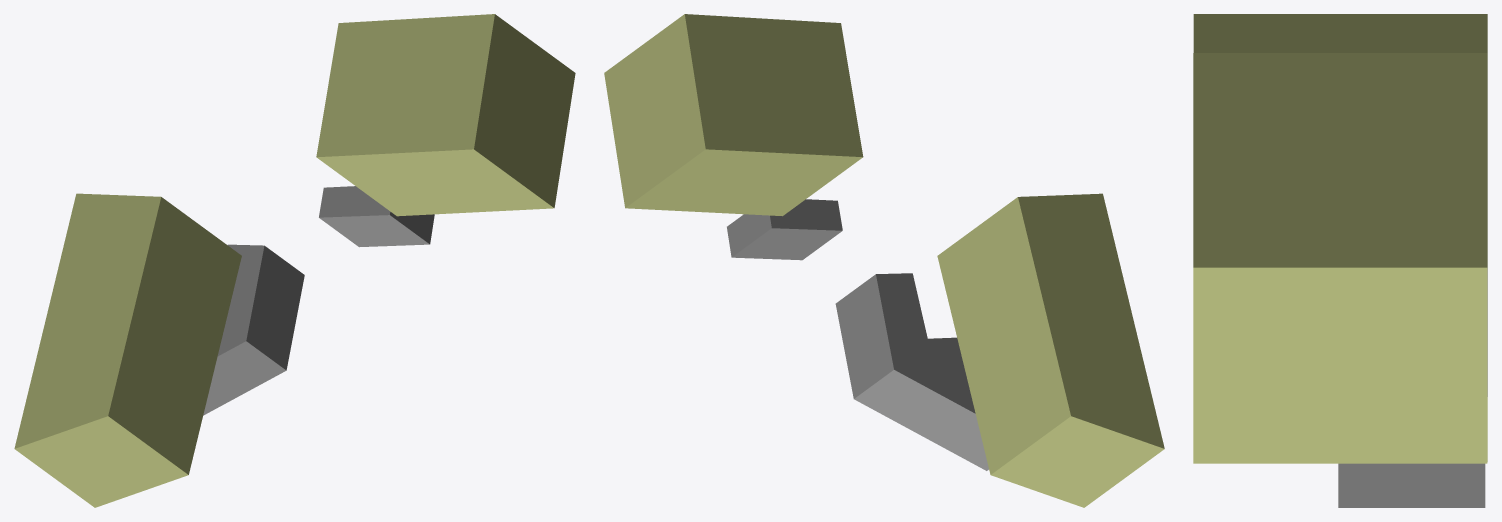
3 renders of one model, left to right at view 1: azimuth 30°, elevation 25°; view 2: azimuth 150°, elevation 25°; view 3: azimuth 270°, elevation 25°, orthographic. The views are drawn at different scales.
Visible parts, largest first — view 1: 0_1_2_0_1_3_3_1_0_1; view 2: 0_1_2_0_1_3_3_1_0_1; view 3: 0_1_2_0_1_3_3_1_0_1.
Part boxes in pixels (<box>): 0_1_2_0_1_3_3_1_0_1: <box>14,14,575,507</box>; 0_1_2_0_1_3_3_1_0_1: <box>604,14,1164,507</box>; 0_1_2_0_1_3_3_1_0_1: <box>1193,14,1487,507</box>.
Bounding box in the file's own units: 20.64 × 14.24 × 6.01.
